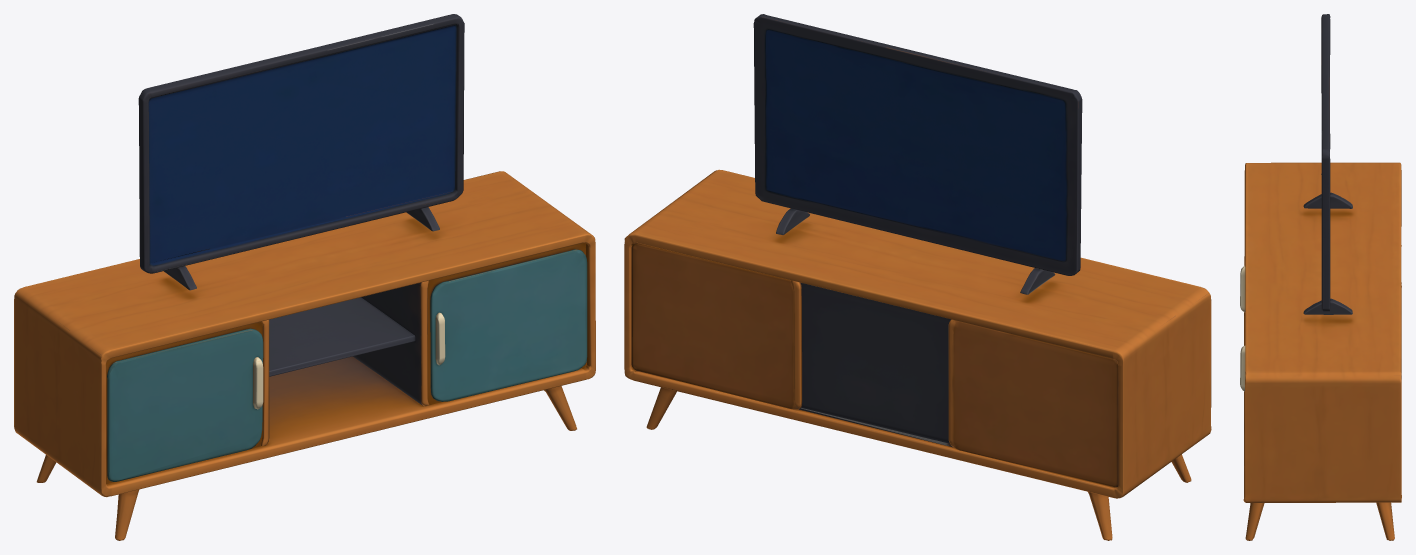
File: apartment-tv-stand.glb
3 renders of one model, left to right at view 1: azimuth 30°, elevation 25°; view 2: azimuth 150°, elevation 25°; view 3: azimuth 270°, elevation 25°, orthographic. The views are drawn at different scales.
Visible parts, largest first — view 1: geometry_0; view 2: geometry_0; view 3: geometry_0.
Part boxes in pixels (x1,y1,x2,y2): geometry_0: [14, 14, 595, 540]; geometry_0: [624, 14, 1211, 540]; geometry_0: [1240, 14, 1401, 540].
Size of the model in its own units: 1 by 0.7789 by 0.3179.
Materials: 1 (1 with a texture image).
